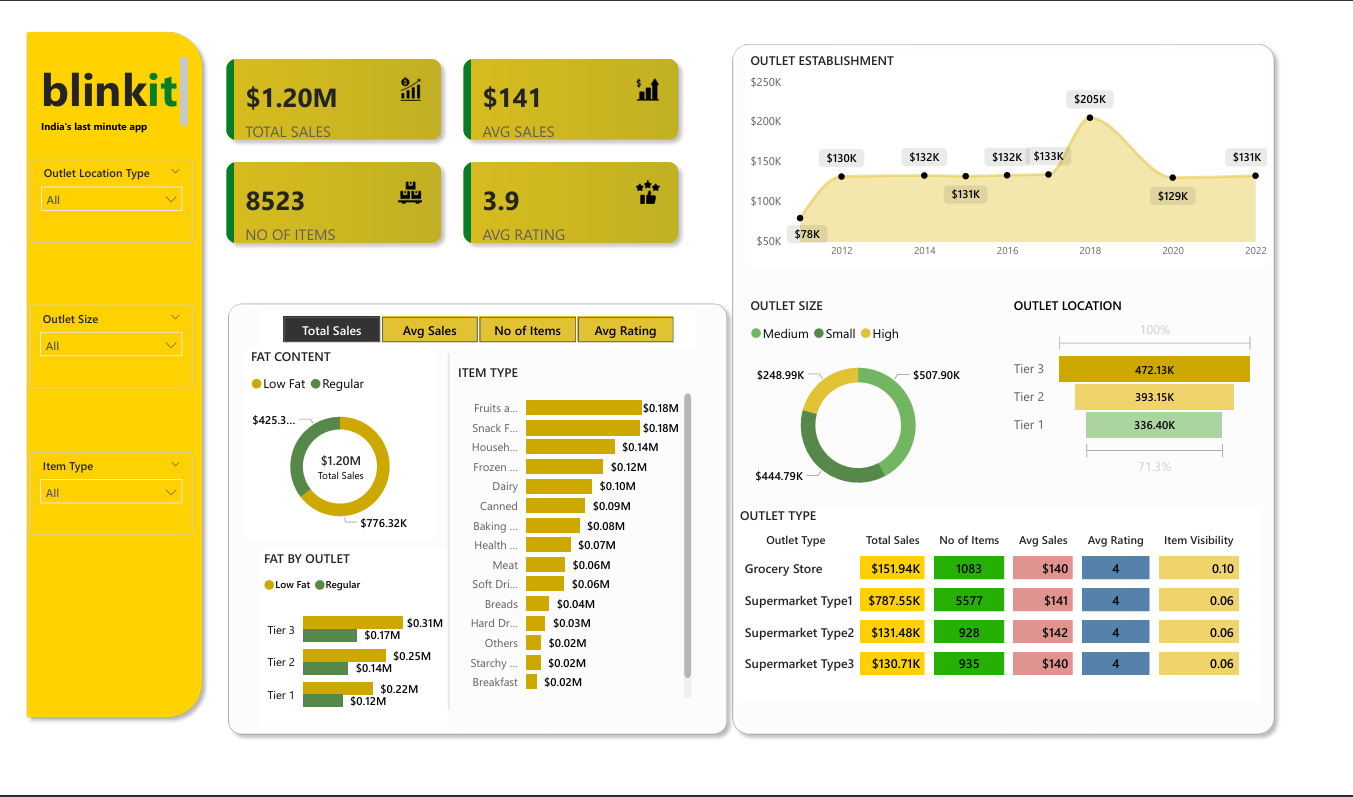

Layout of this report page (visuals, bound fields, positions):
{"tool":"powerbi","page":{"name":"Page 1","canvas":[1400,800],"ordinal":0},"visuals":[{"type":"shape","box":[0,0,205.1,749.3],"z":0},{"type":"textbox","box":[18.9,30.5,167.4,94.7],"z":1000},{"type":"cardVisual","fields":{"Data":["BlinkIT Grocery Data.Total Sales","BlinkIT Grocery Data.Avg Sales","BlinkIT Grocery Data.No of Items","BlinkIT Grocery Data.Avg Rating"]},"box":[205.1,20.5,517.6,232],"z":2000},{"type":"shape","box":[214.6,290.4,550.7,476.6],"z":3000},{"type":"donutChart","title":"FAT CONTENT","fields":{"Y":["BlinkIT Grocery Data.Total Sales"],"Category":["BlinkIT Grocery Data.Item Fat Content"]},"box":[243,345.6,200.4,206.7],"z":4000},{"type":"slicer","fields":{"Values":["Metrics.Metrics"]},"box":[257.2,306.1,465.5,39.5],"z":5000},{"type":"cardVisual","fields":{"Data":["BlinkIT Grocery Data.Total Sales"]},"box":[301.4,438.7,86.8,61.5],"z":6000},{"type":"clusteredBarChart","title":"FAT BY OUTLET","fields":{"Y":["BlinkIT Grocery Data.Total Sales"],"Category":["BlinkIT Grocery Data.Outlet Location Type"],"Series":["BlinkIT Grocery Data.Item Fat Content"]},"box":[257.2,561.8,200.4,187.8],"z":7000},{"type":"shape","box":[399.2,351.9,119.9,380.3],"z":8000},{"type":"barChart","title":"ITEM TYPE","fields":{"Y":["BlinkIT Grocery Data.Total Sales"],"Category":["BlinkIT Grocery Data.Item Type"]},"box":[463.9,362.9,258.8,361.4],"z":9000},{"type":"shape","box":[752.7,12.6,596.5,754.3],"z":10000},{"type":"lineChart","title":"OUTLET ESTABLISHMENT","fields":{"Y":["BlinkIT Grocery Data.Total Sales"],"Category":["BlinkIT Grocery Data.Outlet Establishment Year"]},"box":[776.4,30,560.2,228.8],"z":11000},{"type":"donutChart","title":"OUTLET SIZE","fields":{"Y":["BlinkIT Grocery Data.Total Sales"],"Category":["BlinkIT Grocery Data.Outlet Size"]},"box":[776.4,291.9,239.9,225.7],"z":12000},{"type":"funnel","title":"OUTLET LOCATION","fields":{"Y":["Sum(BlinkIT Grocery Data.Sales)"],"Category":["BlinkIT Grocery Data.Outlet Location Type"]},"box":[1057.3,291.9,266.7,194.1],"z":13000},{"type":"pivotTable","title":"OUTLET TYPE","fields":{"Rows":["BlinkIT Grocery Data.Outlet Type"],"Values":["BlinkIT Grocery Data.Total Sales","BlinkIT Grocery Data.No of Items","BlinkIT Grocery Data.Avg Sales","BlinkIT Grocery Data.Avg Rating","Avg(BlinkIT Grocery Data.Item Visibility)"]},"box":[765.3,516,558.6,208.3],"z":14000},{"type":"slicer","fields":{"Values":["BlinkIT Grocery Data.Outlet Location Type"]},"box":[12.6,145.2,173.6,88.4],"z":14001},{"type":"slicer","fields":{"Values":["BlinkIT Grocery Data.Outlet Size"]},"box":[12.2,300.3,173.9,88.3],"z":14002},{"type":"slicer","fields":{"Values":["BlinkIT Grocery Data.Item Type"]},"box":[12.2,456.5,173.9,88.3],"z":14003}]}

Visuals, with their boxes in screenshot pixels (x1, y1, x2, y2), scaled from the page's 1400x800 canvas onto the 1353x797 screenshot:
shape: l=0, t=0, r=198, b=746
textbox: l=18, t=30, r=180, b=125
cardVisual - BlinkIT Grocery Data.Total Sales x BlinkIT Grocery Data.Avg Sales: l=198, t=20, r=698, b=252
shape: l=207, t=289, r=740, b=764
"FAT CONTENT" donutChart: l=235, t=344, r=429, b=550
slicer - Metrics.Metrics: l=249, t=305, r=698, b=344
cardVisual - BlinkIT Grocery Data.Total Sales: l=291, t=437, r=375, b=498
"FAT BY OUTLET" clusteredBarChart: l=249, t=560, r=442, b=747
shape: l=386, t=351, r=502, b=729
"ITEM TYPE" barChart: l=448, t=362, r=698, b=722
shape: l=727, t=13, r=1304, b=764
"OUTLET ESTABLISHMENT" lineChart: l=750, t=30, r=1292, b=258
"OUTLET SIZE" donutChart: l=750, t=291, r=982, b=516
"OUTLET LOCATION" funnel: l=1022, t=291, r=1280, b=484
"OUTLET TYPE" pivotTable: l=740, t=514, r=1279, b=722
slicer - BlinkIT Grocery Data.Outlet Location Type: l=12, t=145, r=180, b=233
slicer - BlinkIT Grocery Data.Outlet Size: l=12, t=299, r=180, b=387
slicer - BlinkIT Grocery Data.Item Type: l=12, t=455, r=180, b=543
